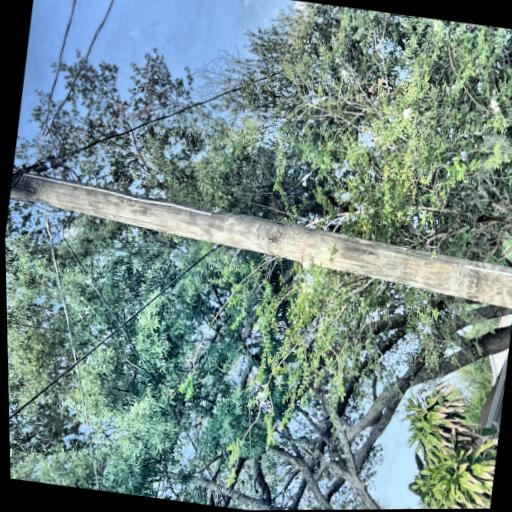pole: (40, 0, 233, 500)
street light: (180, 31, 338, 125)
transformer: (133, 0, 205, 97)
